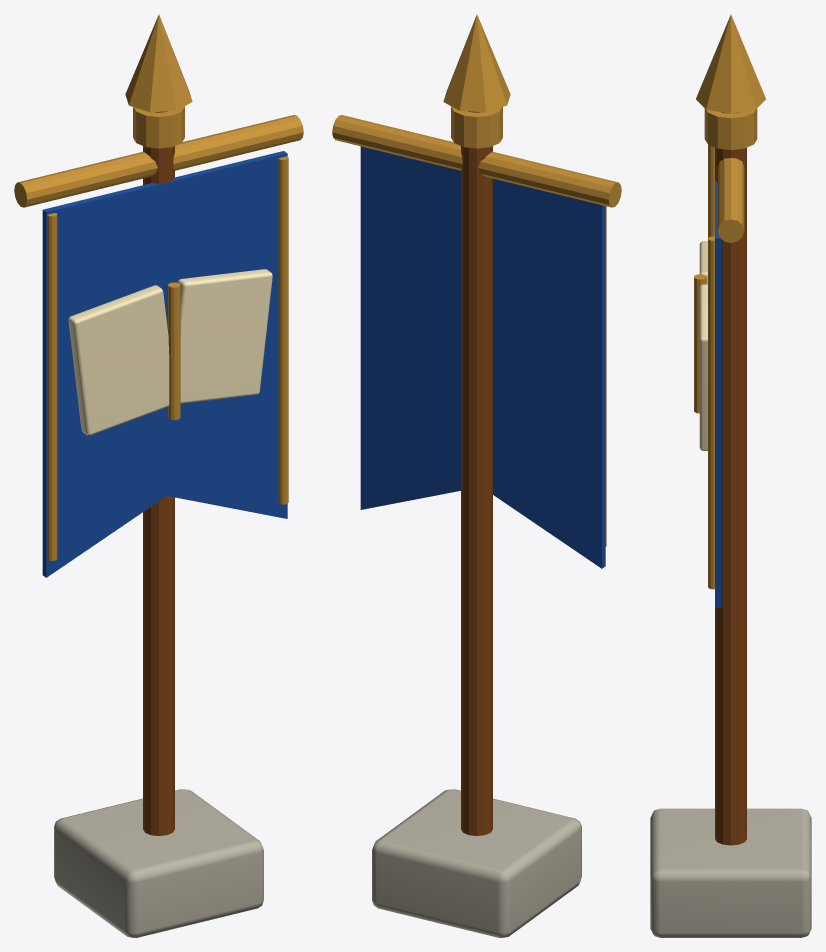
File: 54_banner_book.glb
The picture shows the model from 3 angles, left to right: view 1: azimuth 30°, elevation 25°; view 2: azimuth 150°, elevation 25°; view 3: azimuth 270°, elevation 25°; orthographic projection.
Visible parts, largest first — view 1: Royal blue fabric, Flag stone socket, Book emblem page, Flagpole, Book emblem page.001, Banner crossbar, Banner border.001, Banner border, Flag finial, Flagpole brass collar, Book spine; view 2: Royal blue fabric, Flag stone socket, Flagpole, Banner crossbar, Flag finial, Flagpole brass collar, Banner border; view 3: Flag stone socket, Flagpole, Flag finial, Royal blue fabric, Banner border.001, Banner crossbar, Flagpole brass collar, Book emblem page.001, Book spine, Banner border.
Boxes of the visible parts, left/top/right/bottom form: Royal blue fabric: left=42, top=151, right=287, bottom=577; Flag stone socket: left=54, top=789, right=263, bottom=937; Book emblem page: left=68, top=285, right=169, bottom=435; Flagpole: left=143, top=111, right=174, bottom=835; Book emblem page.001: left=177, top=269, right=272, bottom=403; Banner crossbar: left=14, top=115, right=303, bottom=207; Banner border.001: left=278, top=156, right=288, bottom=504; Banner border: left=47, top=213, right=57, bottom=560; Flag finial: left=125, top=14, right=192, bottom=112; Flagpole brass collar: left=133, top=106, right=184, bottom=148; Book spine: left=168, top=282, right=180, bottom=420; Royal blue fabric: left=360, top=146, right=605, bottom=568; Flag stone socket: left=372, top=789, right=581, bottom=937; Flagpole: left=461, top=111, right=492, bottom=835; Banner crossbar: left=332, top=115, right=621, bottom=207; Flag finial: left=443, top=14, right=510, bottom=112; Flagpole brass collar: left=451, top=106, right=502, bottom=148; Banner border: left=605, top=206, right=606, bottom=546; Flag stone socket: left=650, top=808, right=811, bottom=937; Flagpole: left=715, top=112, right=746, bottom=845; Flag finial: left=696, top=14, right=765, bottom=113; Royal blue fabric: left=715, top=179, right=722, bottom=608; Banner border.001: left=708, top=236, right=714, bottom=589; Banner crossbar: left=717, top=158, right=744, bottom=242; Flagpole brass collar: left=704, top=108, right=757, bottom=149; Book emblem page.001: left=699, top=284, right=707, bottom=450; Book spine: left=694, top=274, right=706, bottom=413; Banner border: left=708, top=144, right=714, bottom=238.
Size of the model in its own units: 1.1 by 3.36 by 0.55.
